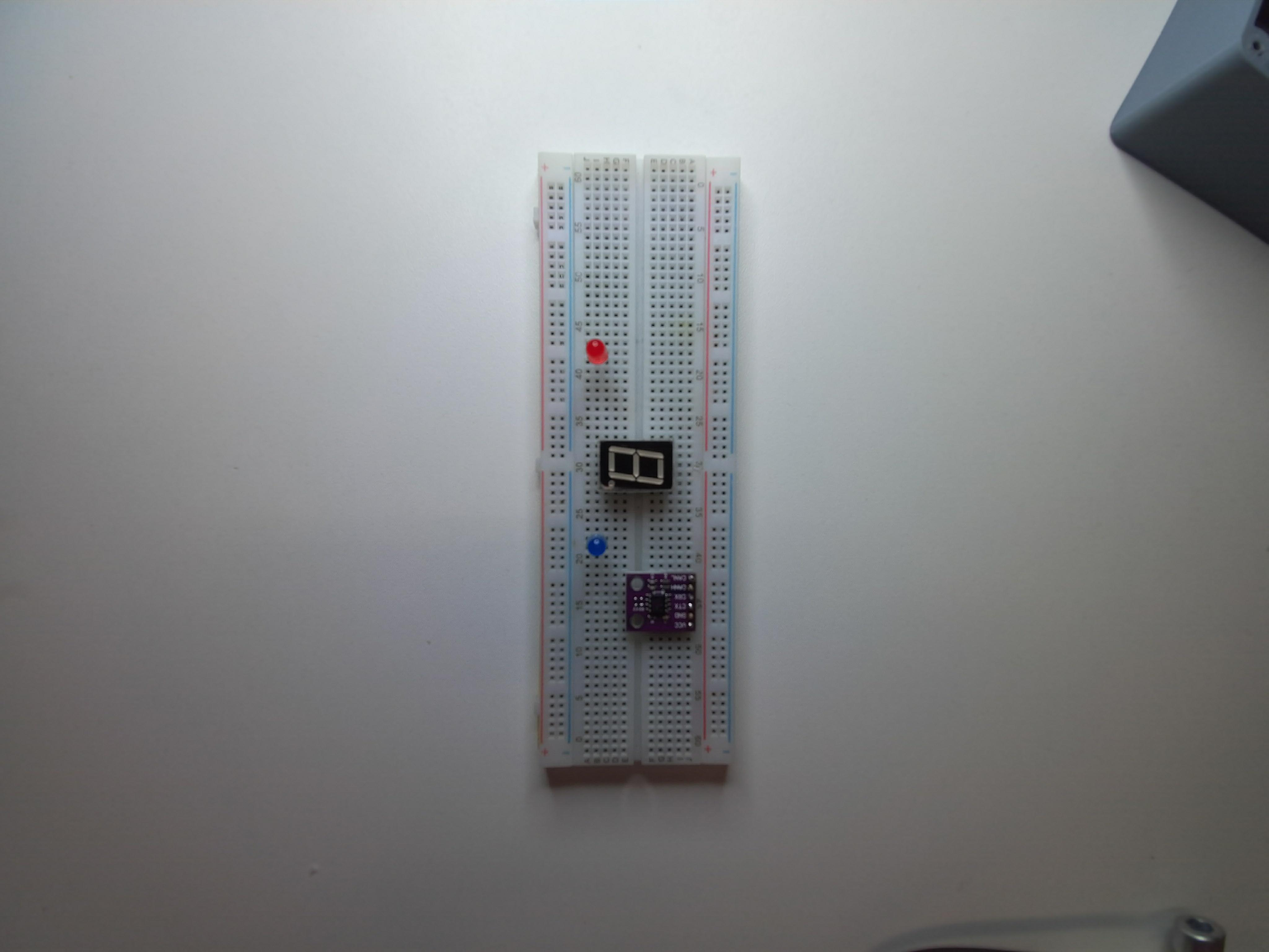base: (530, 149, 751, 791)
blue-led: (584, 531, 607, 559)
digit-board: (595, 437, 673, 492)
purple-board: (625, 572, 699, 639)
red-led: (584, 336, 607, 370)
